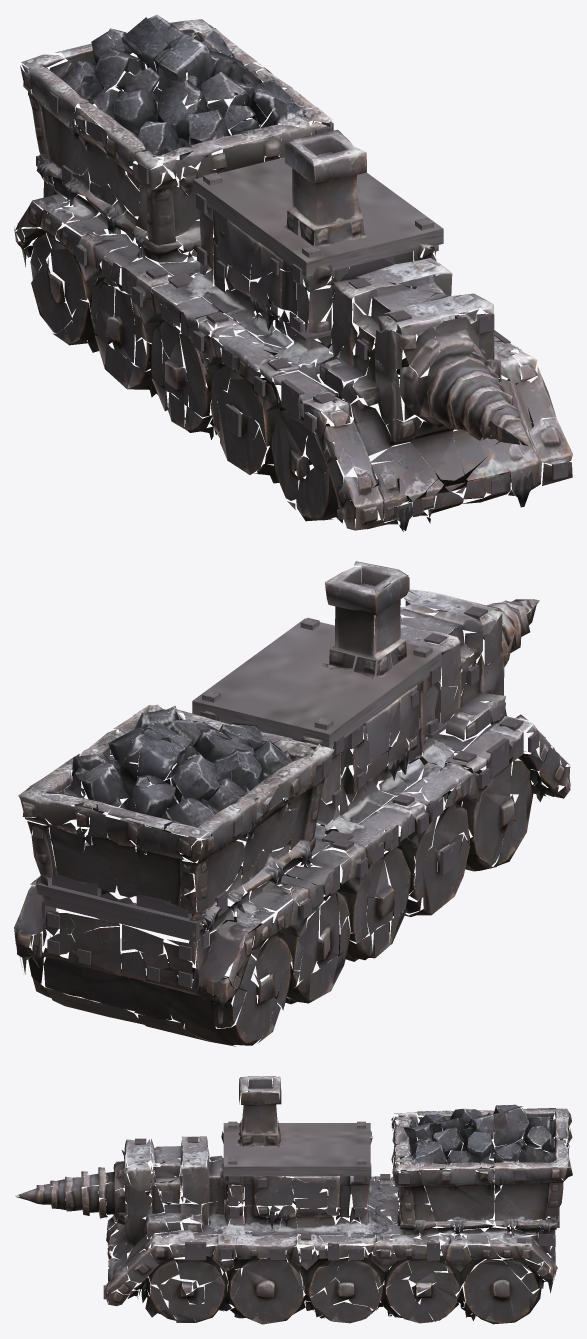
The model's file is orecrawler_lo.glb.
The picture shows the model from 3 angles, top to bottom: view 1: azimuth 30°, elevation 25°; view 2: azimuth 150°, elevation 25°; view 3: azimuth 270°, elevation 25°; orthographic projection. The views are drawn at different scales.
Parts seen in each view (by area): view 1: tripo_node_2a5ff279-57f9-4327-bbfc-f8ed3964efdb; view 2: tripo_node_2a5ff279-57f9-4327-bbfc-f8ed3964efdb; view 3: tripo_node_2a5ff279-57f9-4327-bbfc-f8ed3964efdb.
Boxes of the visible parts, x1=… form: tripo_node_2a5ff279-57f9-4327-bbfc-f8ed3964efdb: x1=14, y1=14, x2=572, y2=531; tripo_node_2a5ff279-57f9-4327-bbfc-f8ed3964efdb: x1=14, y1=561, x2=570, y2=1046; tripo_node_2a5ff279-57f9-4327-bbfc-f8ed3964efdb: x1=15, y1=1076, x2=572, y2=1324.
Bounding box in the file's own units: 0.3005 × 0.3973 × 0.9822.
Materials: 1 (1 with a texture image).
